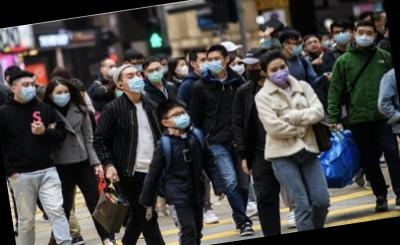with_mask: (267, 61, 292, 88), (124, 70, 147, 96), (244, 61, 266, 86), (171, 107, 193, 131), (17, 78, 38, 103), (354, 26, 376, 49), (51, 86, 72, 109), (206, 55, 226, 76), (229, 59, 248, 79), (288, 39, 307, 59), (145, 66, 166, 84), (333, 27, 352, 46), (195, 56, 210, 74), (269, 31, 284, 49), (177, 61, 191, 77), (105, 63, 119, 78), (133, 60, 146, 72), (160, 59, 169, 74), (321, 37, 331, 49)
without_mask: (305, 38, 323, 54)
